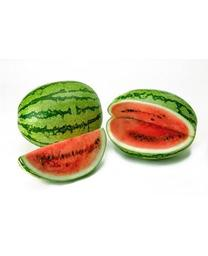watermelon: (18, 81, 106, 181), (105, 89, 198, 158)
